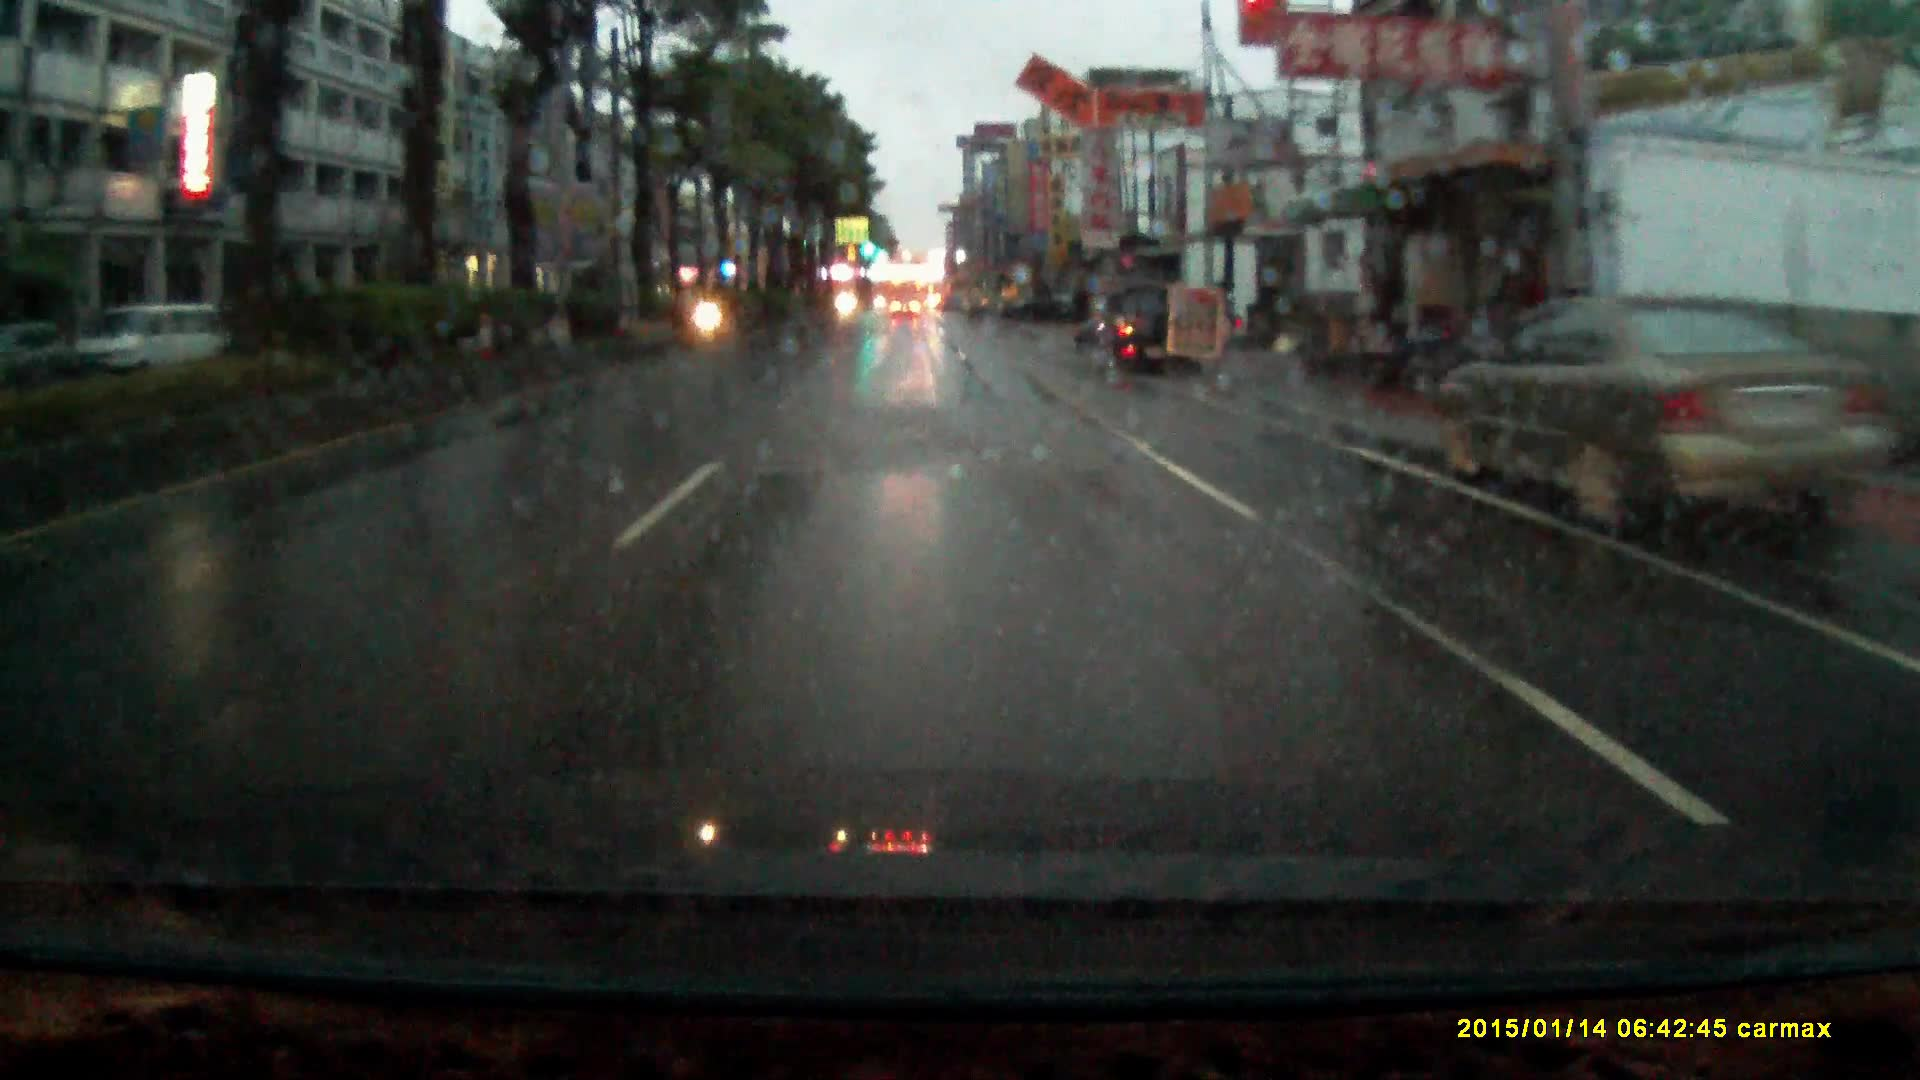vehicle: (1435, 291, 1895, 541), (83, 301, 243, 375), (1077, 284, 1199, 380), (4, 318, 74, 381), (893, 297, 920, 318)
